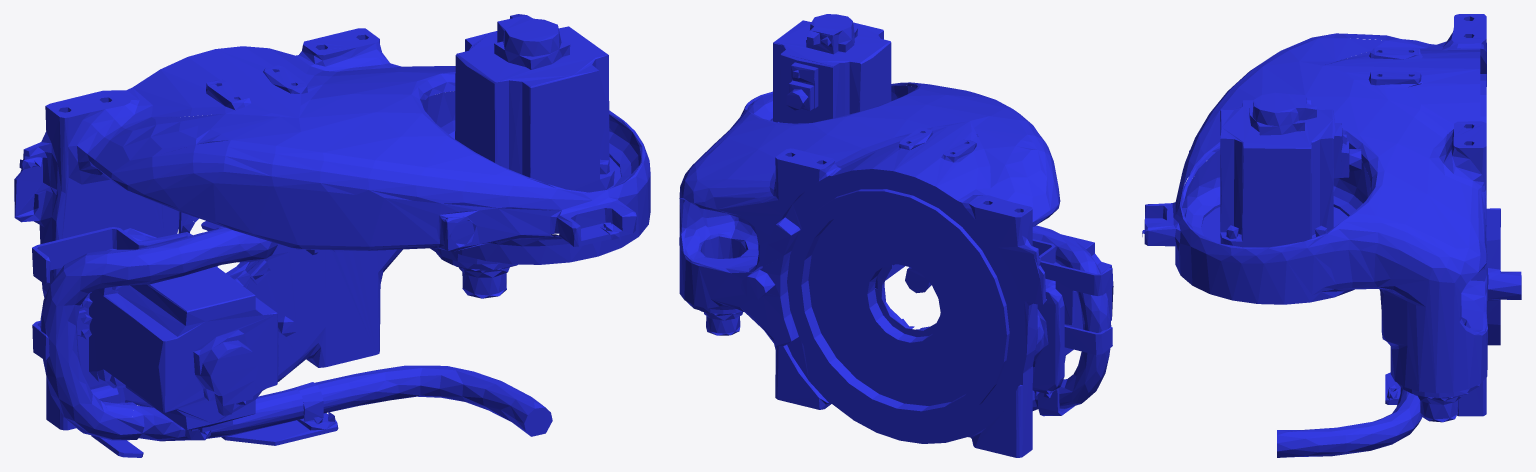
3 views of the same model, side by side, from view 1: azimuth 30°, elevation 25°; view 2: azimuth 150°, elevation 25°; view 3: azimuth 270°, elevation 25° (orthographic). The views are drawn at different scales.
Parts seen in each view (by area): view 1: /Link1/Link1_003-mesh/0; view 2: /Link1/Link1_003-mesh/0; view 3: /Link1/Link1_003-mesh/0.
Boxes of the visible parts, <box> form: /Link1/Link1_003-mesh/0: <box>14,14,650,457</box>; /Link1/Link1_003-mesh/0: <box>679,14,1113,457</box>; /Link1/Link1_003-mesh/0: <box>1142,14,1521,457</box>.
Size of the model in its own units: 0.8316 by 0.6308 by 0.6023.
